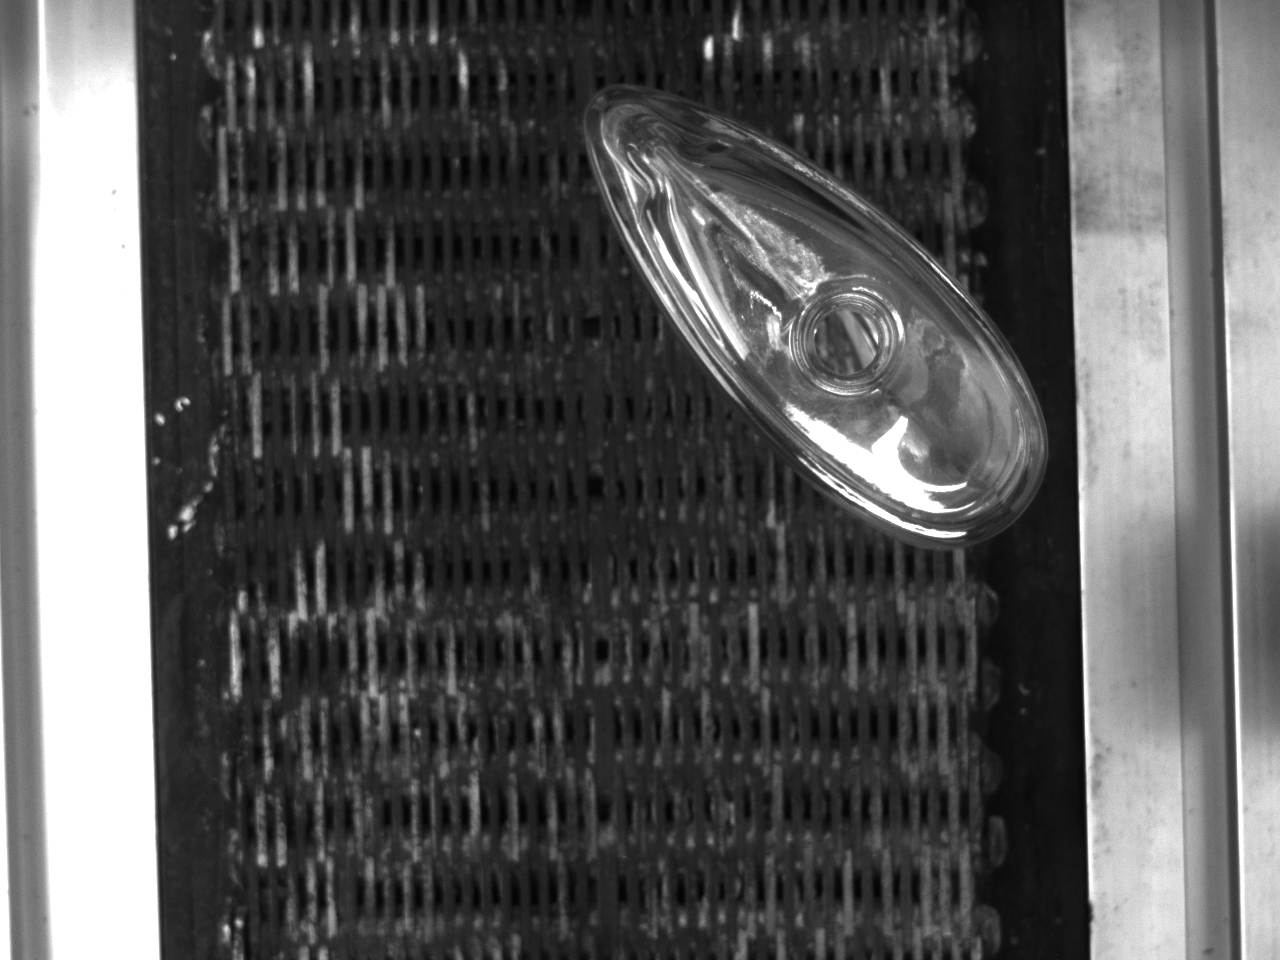bottleneck: (790, 286, 904, 395)
